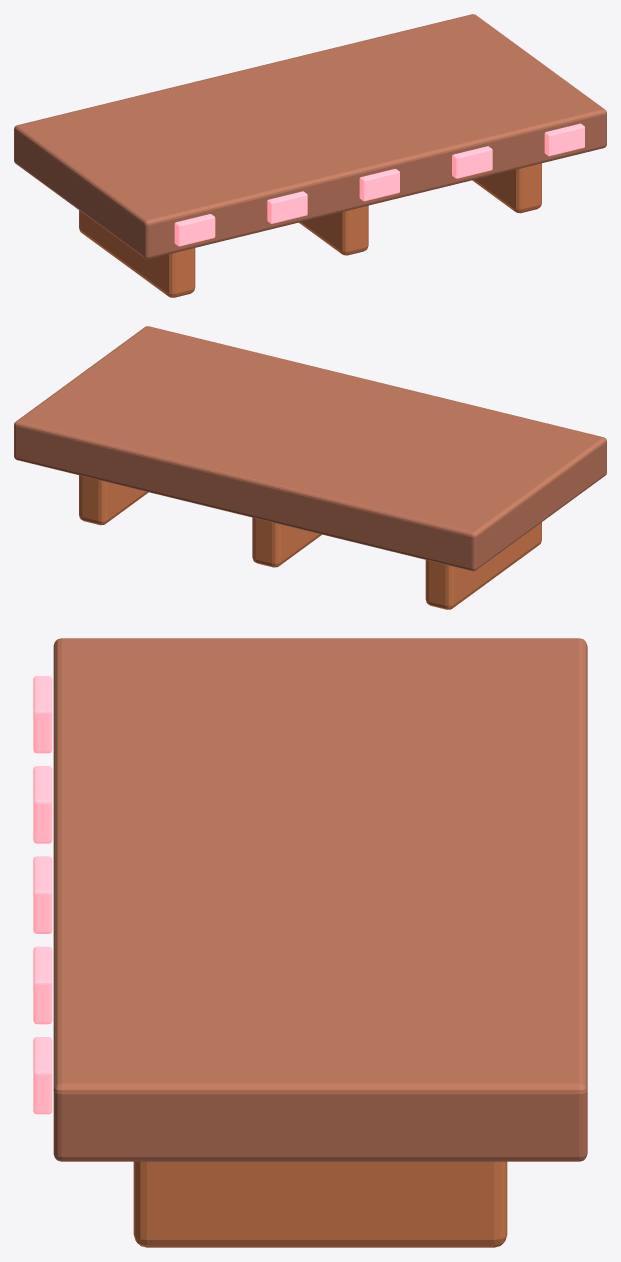
File: SM_DeckScrap.fbx
3 views of the same model, one above another, from view 1: azimuth 30°, elevation 25°; view 2: azimuth 150°, elevation 25°; view 3: azimuth 270°, elevation 25° (orthographic). The views are drawn at different scales.
Parts seen in each view (by area): view 1: SM_DeckScrap; view 2: SM_DeckScrap; view 3: SM_DeckScrap.
Boxes of the visible parts, x1=… form: SM_DeckScrap: x1=14, y1=14, x2=606, y2=297; SM_DeckScrap: x1=14, y1=326, x2=606, y2=609; SM_DeckScrap: x1=33, y1=638, x2=587, y2=1247.
Size of the model in its own units: 200 by 104 by 43.
